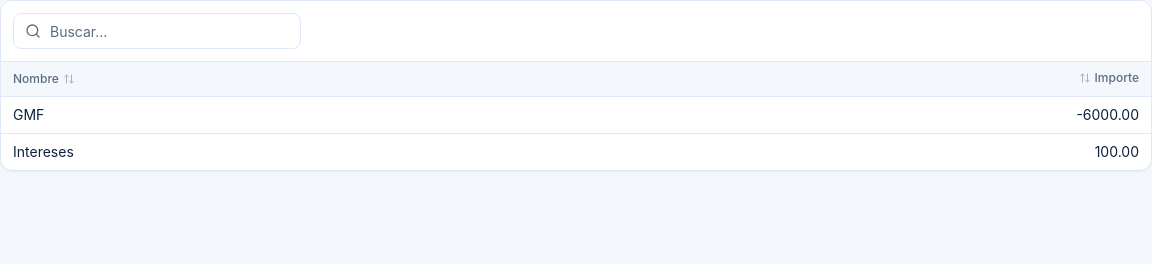
Test case: DataTable › filtra con la búsqueda e informa cuando no hay resultados
In the search field named "Buscar en la tabla": coordinates (157, 31) [13,13,301,49], type "inter"
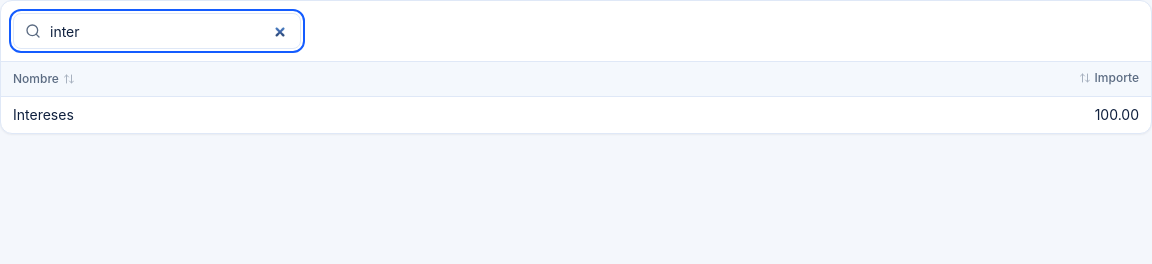
Check: the text "Intereses" is shown, box [1,96,581,133]
Check: the text "GMF" is gone
Replace the text in the search field named "Buscar en la tabla" with "zzz": coordinates (157, 31) [13,13,301,49]
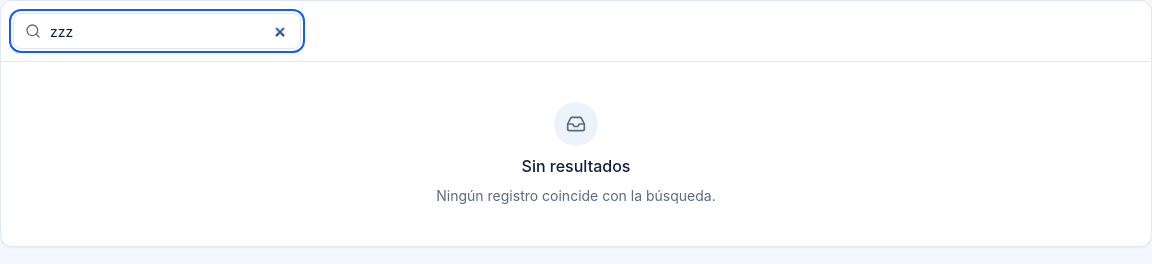
Check: the text "Sin resultados" is shown, box [522,154,630,178]
